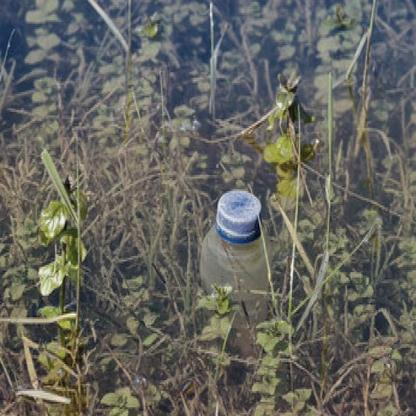plastic bottle: (196, 190, 271, 352)
